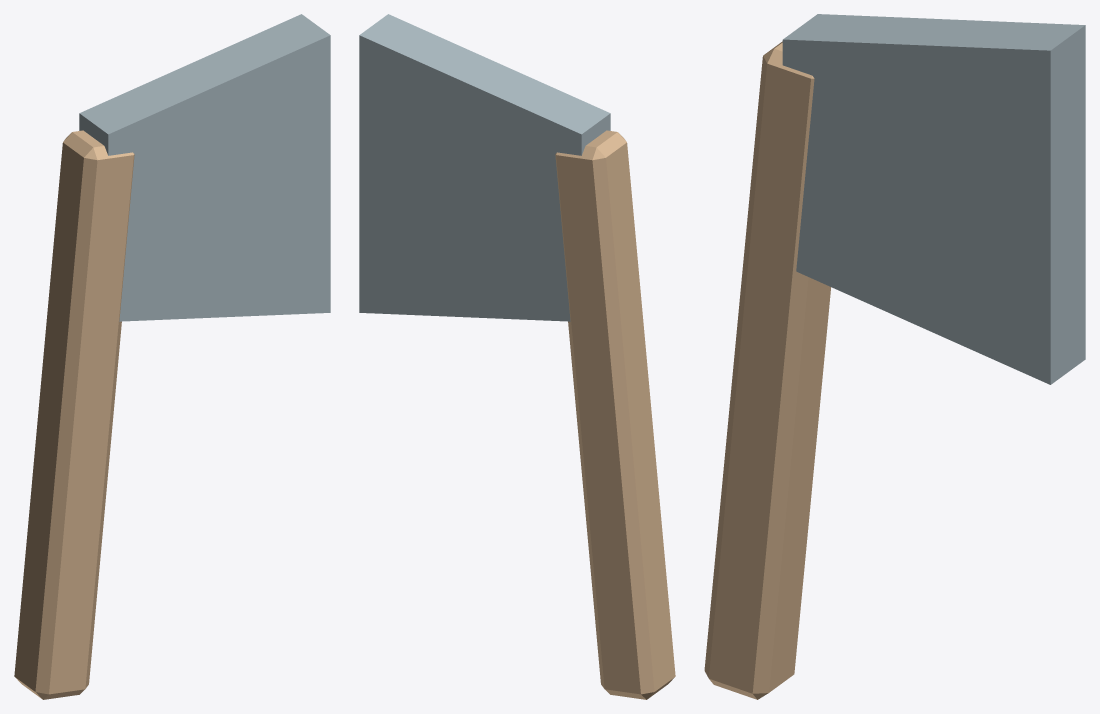
The model's file is cargo_tools.fbx.
3 views of the same model, side by side, from view 1: azimuth 30°, elevation 25°; view 2: azimuth 150°, elevation 25°; view 3: azimuth 330°, elevation 25° (orthographic). The views are drawn at different scales.
Parts seen in each view (by area): view 1: cargo_tools_mesh; view 2: cargo_tools_mesh; view 3: cargo_tools_mesh.
Part boxes in pixels (left/top/right/bottom): cargo_tools_mesh: left=14, top=14, right=330, bottom=699; cargo_tools_mesh: left=359, top=14, right=675, bottom=699; cargo_tools_mesh: left=704, top=14, right=1085, bottom=699.
Size of the model in its own units: 0.4062 by 0.8025 by 0.075.
